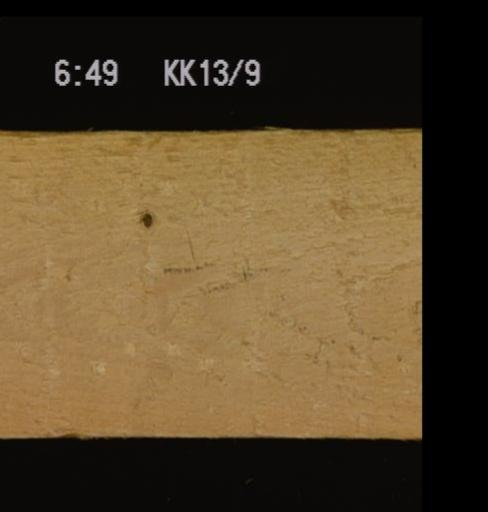dry_knot: (138, 207, 153, 229)
